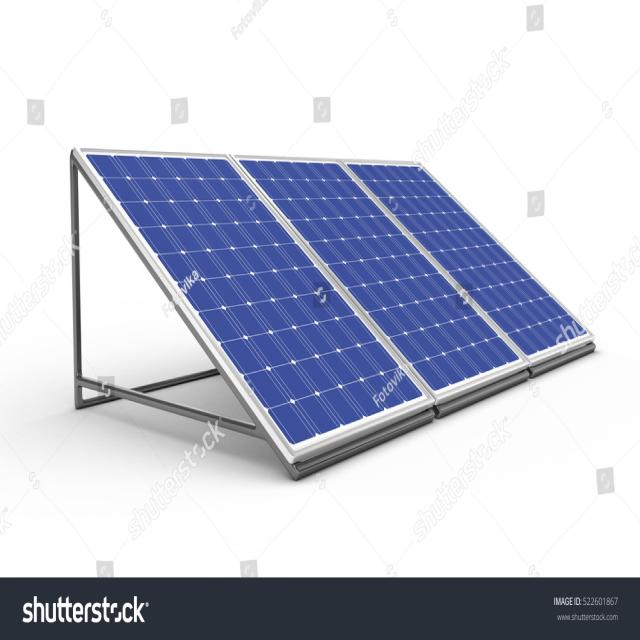clean-solar-panel: (71, 148, 595, 477)
